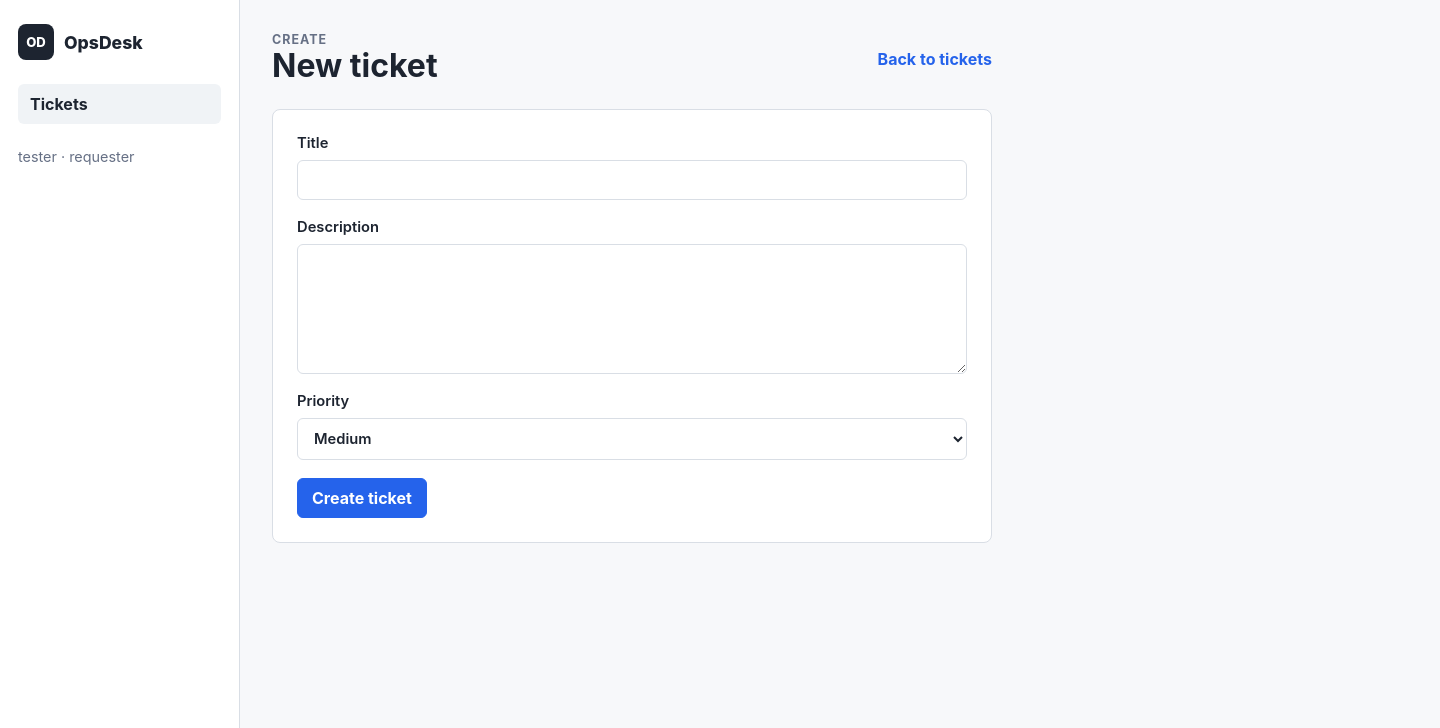
OpsDesk user flows › allows creating a ticket from the new ticket form
The width and height of the screenshot is (1440, 728).
Type "  Printer needs toner  " into the field labelled "Title". click: (632, 180)
box: [297,160,967,200]
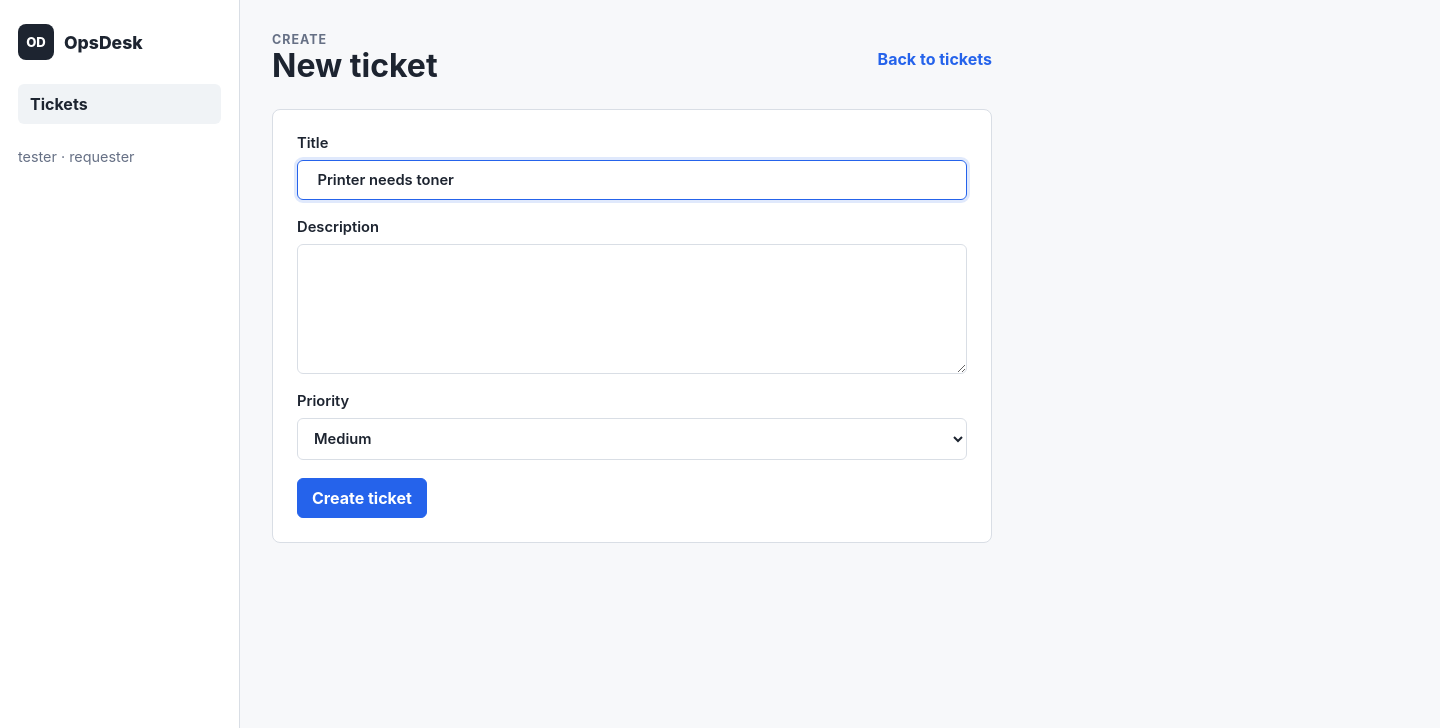
Type "  The finance printer is faded.  " into the text box labelled "Description". click: (632, 309)
box: [297,244,967,374]
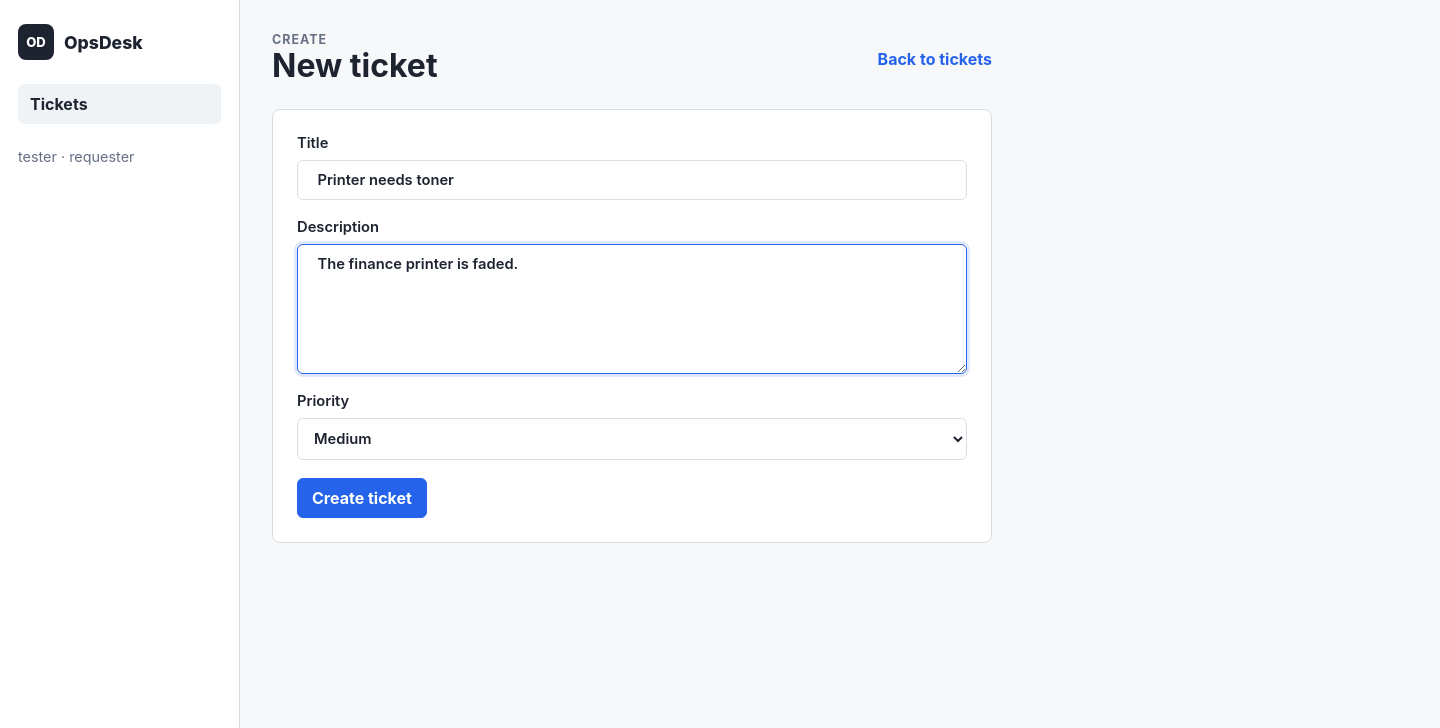
Select "Urgent" in the dropdown labelled "Priority". click: (632, 439)
box: [297,418,967,460]
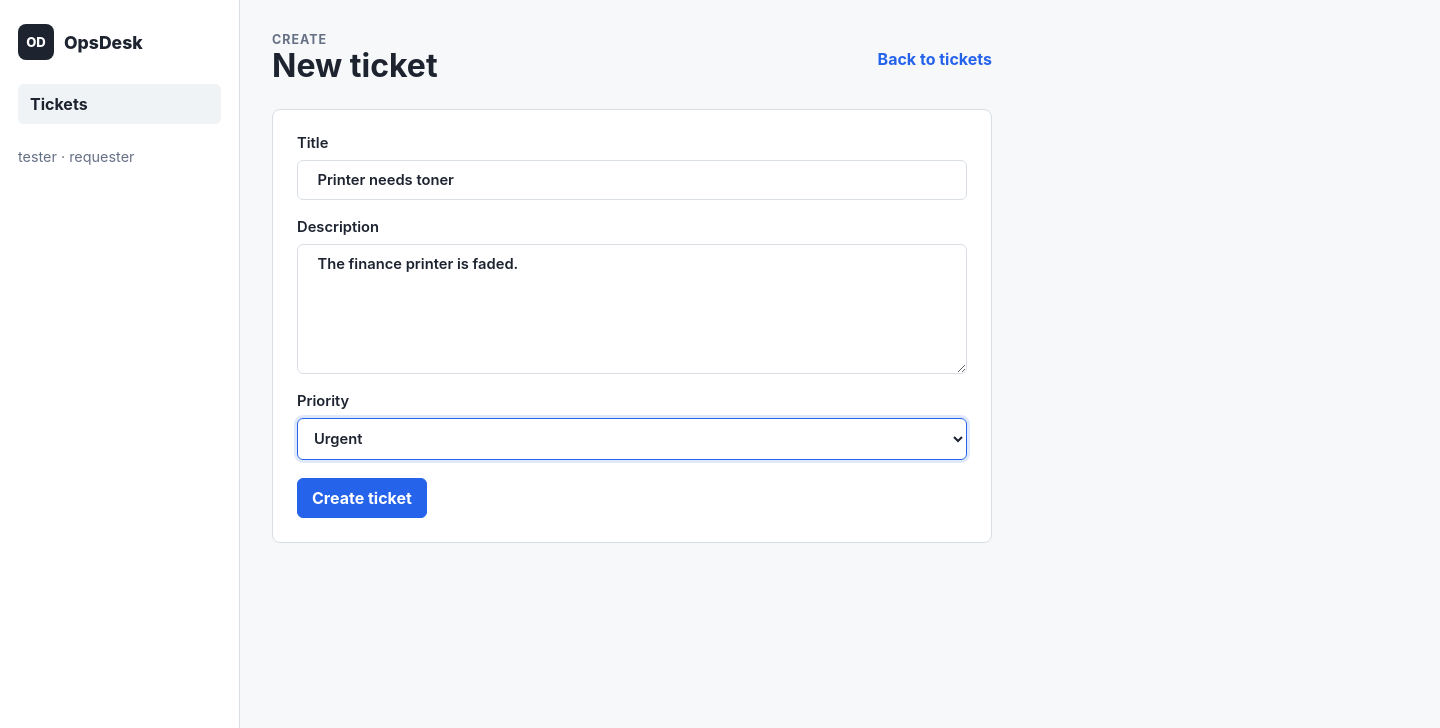
Click the button "Create ticket". click: (362, 498)
box: [297,478,427,518]
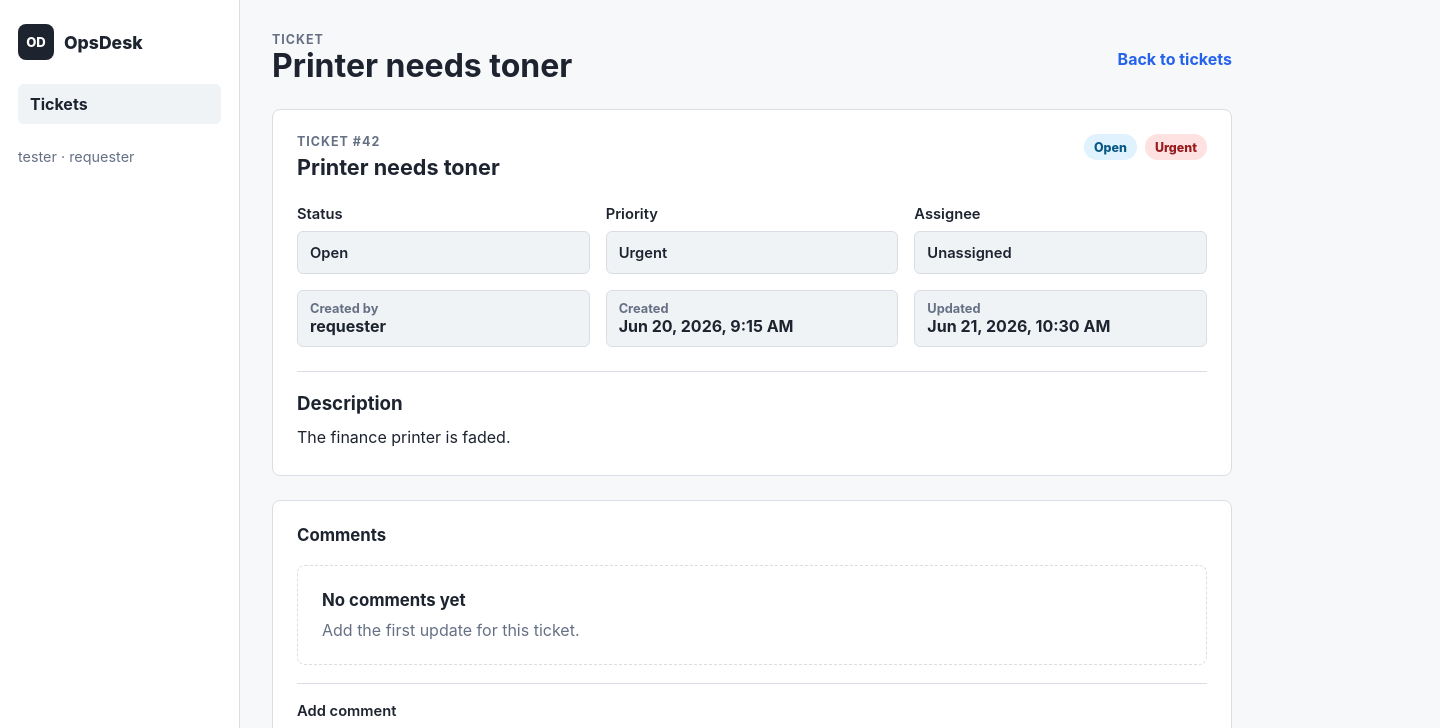
Now the heading "Printer needs toner" in the row of "Back to tickets" is shown, box [272,47,572,85]
